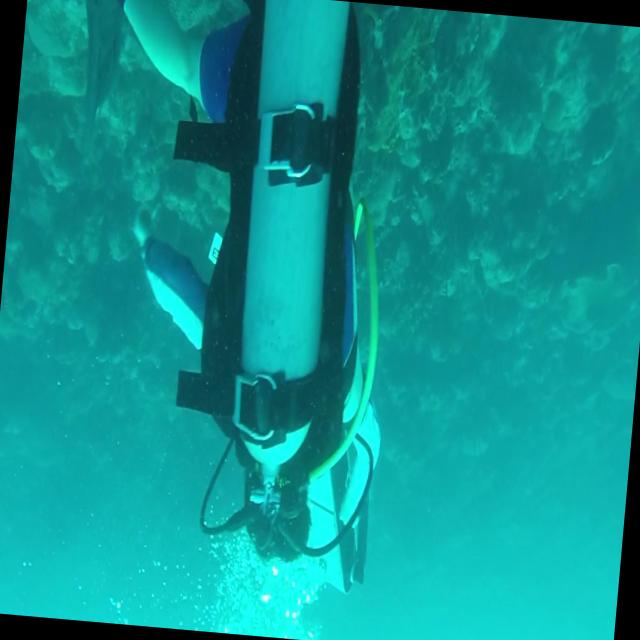human: (28, 0, 418, 593)
